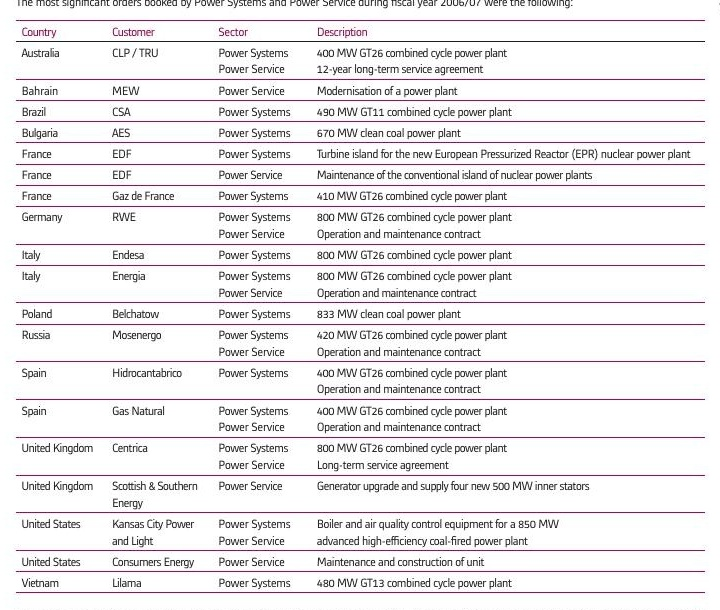table: (0, 0, 720, 610)
